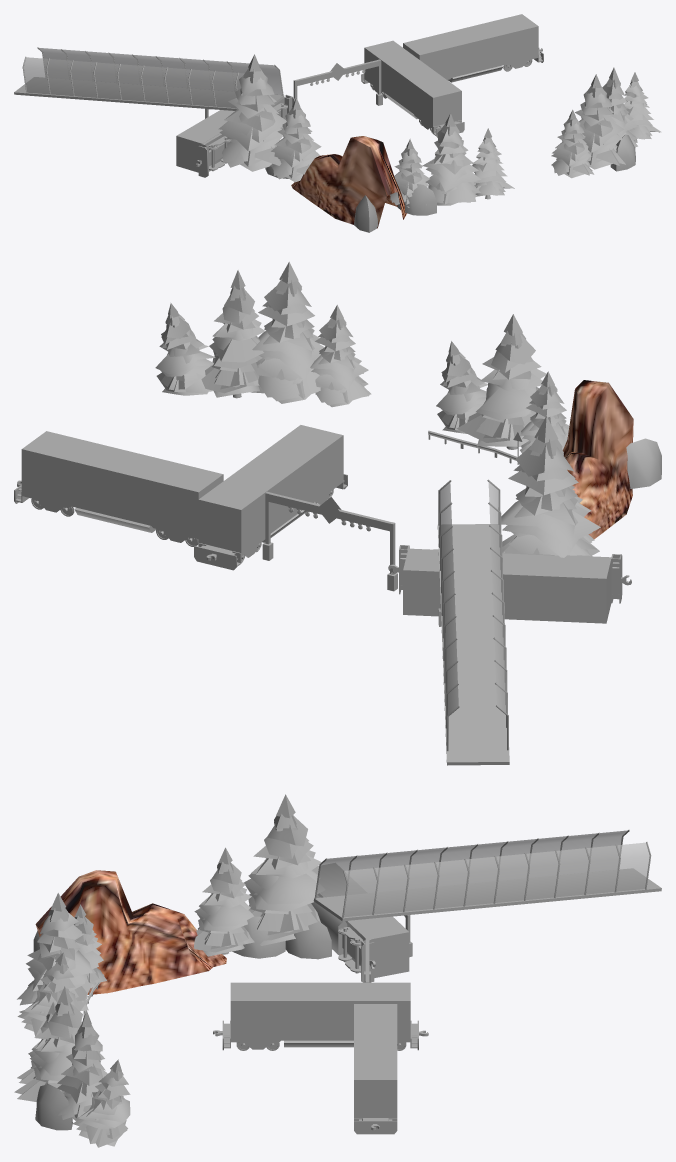
Rendered from Zone_05.fbx.
3 views of the same model, one above another, from view 1: azimuth 30°, elevation 25°; view 2: azimuth 150°, elevation 25°; view 3: azimuth 270°, elevation 25° (orthographic). The views are drawn at different scales.
Parts seen in each view (by area): view 1: polymsh67; view 2: polymsh67; view 3: polymsh67.
Part boxes in pixels (x1,y1,x2,y2): polymsh67: (14,14,661,232); polymsh67: (14,262,661,765); polymsh67: (14,794,661,1147).
Size of the model in its own units: 49.06 by 12.62 by 47.59.
